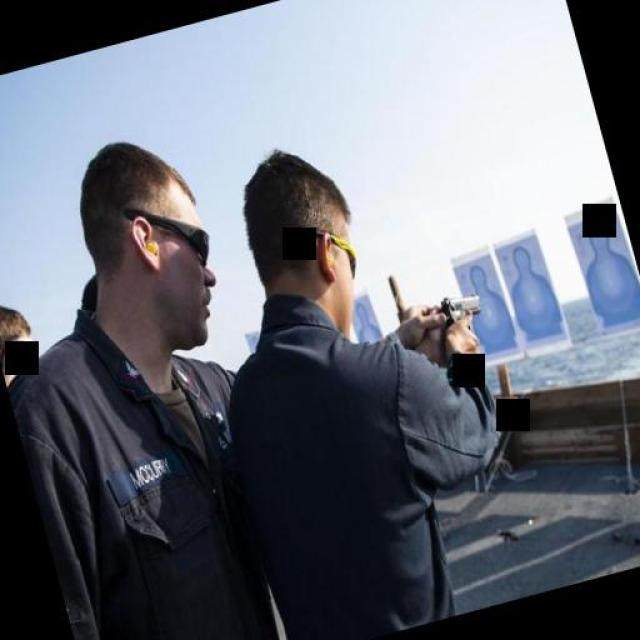gun: (435, 282, 489, 336)
